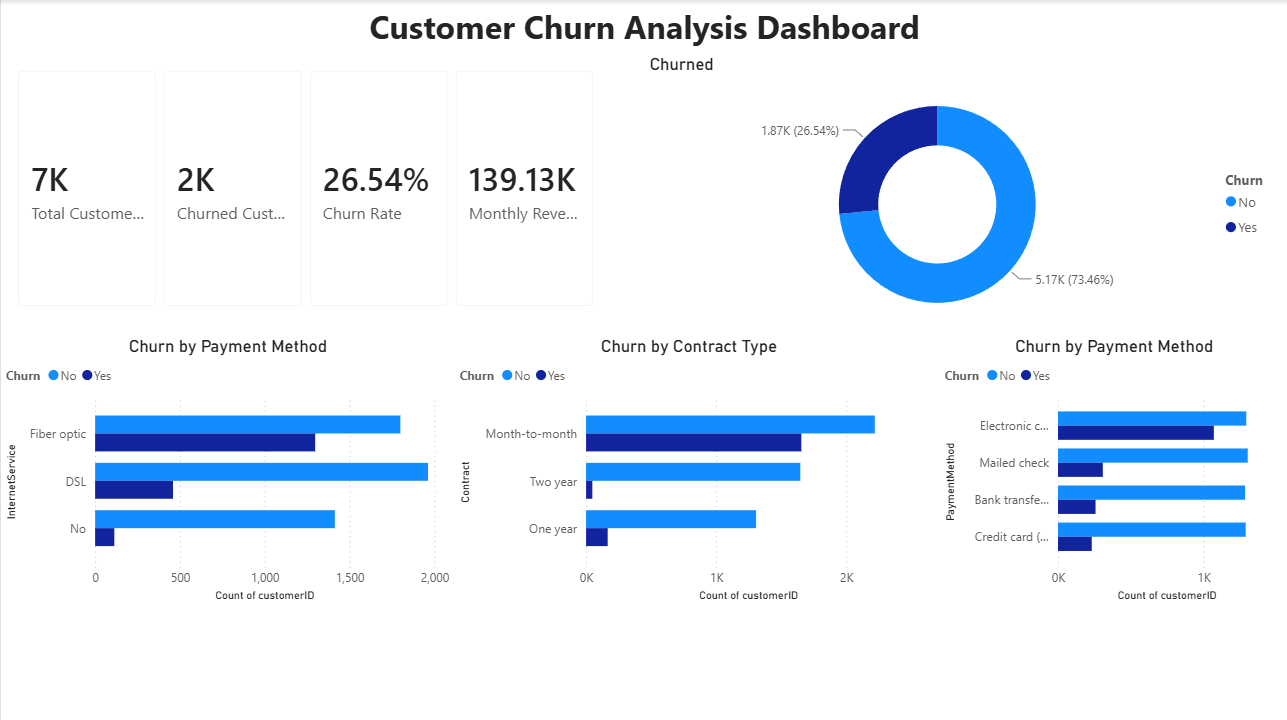

This screenshot's page, from the dashboard's own definition file:
{"tool":"powerbi","page":{"name":"Executive Summary","canvas":[1280,720],"ordinal":0},"visuals":[{"type":"cardVisual","fields":{"Data":["WA_Fn-UseC_-Telco-Customer-Churn.Total Customers","WA_Fn-UseC_-Telco-Customer-Churn.Churned Customers","WA_Fn-UseC_-Telco-Customer-Churn.Churn Rate","WA_Fn-UseC_-Telco-Customer-Churn.Monthly Revenue Lost"]},"box":[0,53.4,606.6,268.5],"z":0},{"type":"donutChart","title":"Churned","fields":{"Category":["WA_Fn-UseC_-Telco-Customer-Churn.Churn"],"Y":["CountNonNull(WA_Fn-UseC_-Telco-Customer-Churn.customerID)"]},"box":[640.1,53.4,640.1,280.9],"z":1000},{"type":"clusteredBarChart","title":"Churn by Contract Type","fields":{"Category":["WA_Fn-UseC_-Telco-Customer-Churn.Contract"],"Y":["CountNonNull(WA_Fn-UseC_-Telco-Customer-Churn.customerID)"],"Series":["WA_Fn-UseC_-Telco-Customer-Churn.Churn"]},"box":[451.2,334.4,466.1,268.5],"z":2000},{"type":"clusteredBarChart","title":"Churn by Payment Method","fields":{"Category":["WA_Fn-UseC_-Telco-Customer-Churn.PaymentMethod"],"Y":["CountNonNull(WA_Fn-UseC_-Telco-Customer-Churn.customerID)"],"Series":["WA_Fn-UseC_-Telco-Customer-Churn.Churn"]},"box":[933.5,334.4,346.8,268.5],"z":2001},{"type":"clusteredBarChart","title":"Churn by Payment Method","fields":{"Category":["WA_Fn-UseC_-Telco-Customer-Churn.InternetService"],"Y":["CountNonNull(WA_Fn-UseC_-Telco-Customer-Churn.customerID)"],"Series":["WA_Fn-UseC_-Telco-Customer-Churn.Churn"]},"box":[0,334.4,451.2,268.5],"z":2002},{"type":"textbox","box":[0,0,1280.3,53.4],"z":2003}]}

Visuals, with their boxes in screenshot pixels (x1, y1, x2, y2), scaled from the page's 1280x720 canvas onto the 1287x720 screenshot:
cardVisual - WA_Fn-UseC_-Telco-Customer-Churn.Total Customers x WA_Fn-UseC_-Telco-Customer-Churn.Churned Customers: rect(0, 53, 610, 322)
"Churned" donutChart: rect(644, 53, 1286, 334)
"Churn by Contract Type" clusteredBarChart: rect(454, 334, 922, 603)
"Churn by Payment Method" clusteredBarChart: rect(939, 334, 1286, 603)
"Churn by Payment Method" clusteredBarChart: rect(0, 334, 454, 603)
textbox: rect(0, 0, 1286, 53)
